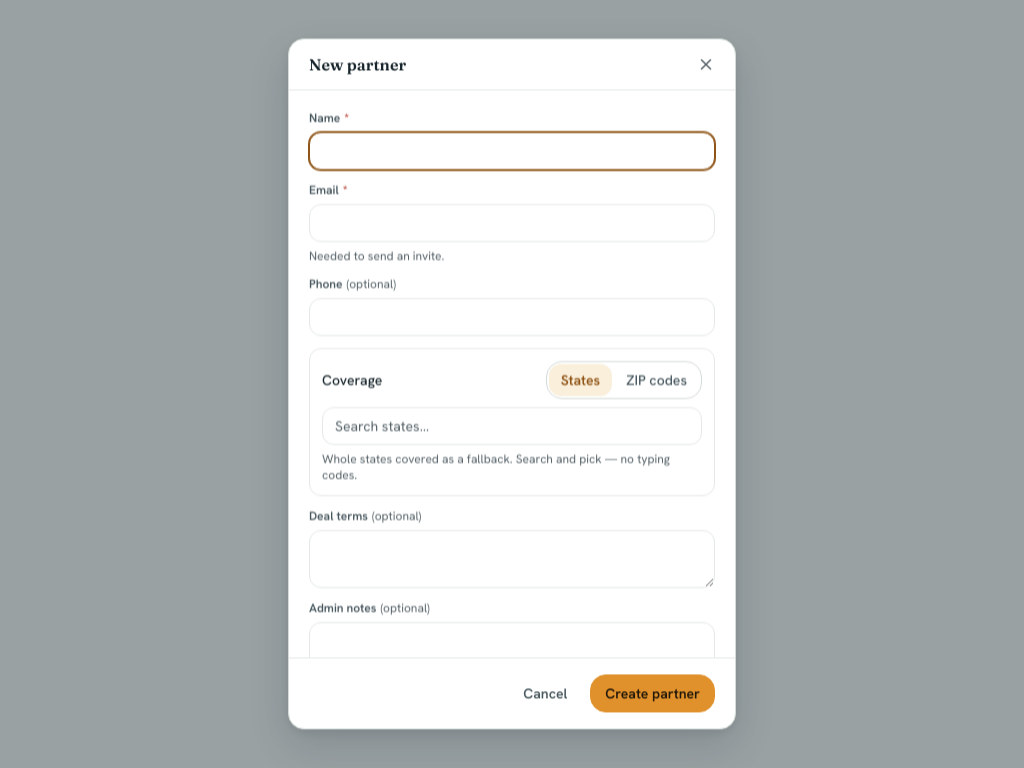
it: WP-C PartnerForm — create › blocks submit and shows field errors when name/email are empty (email now required)
Click the button "Create partner" at (653, 694), box [590,675,715,713]
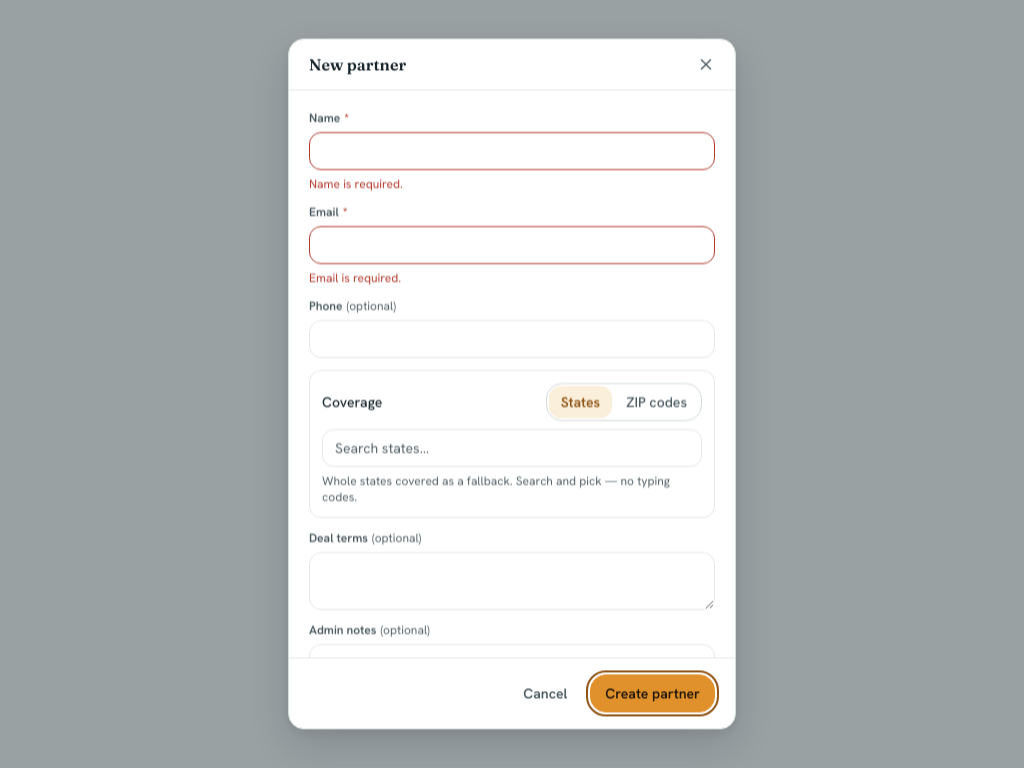
Expected: the text "Name is required." is shown, [309,177,403,193]
Expected: the text "Email is required." is shown, [309,271,401,287]
